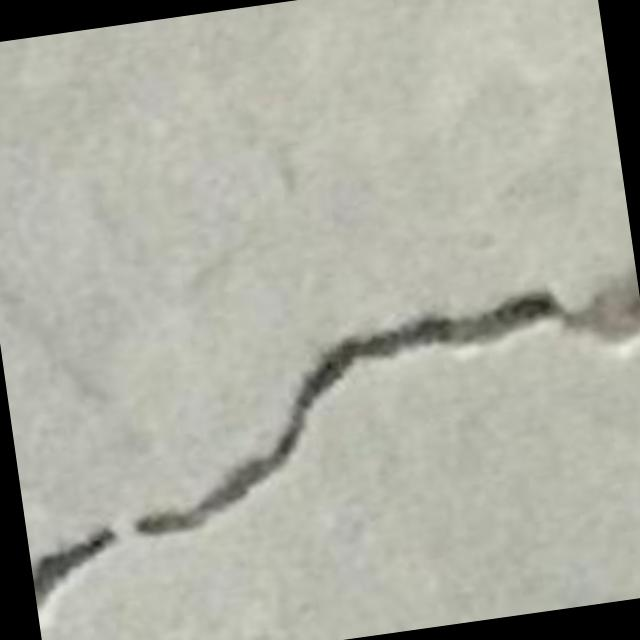crack: (133, 284, 639, 537)
